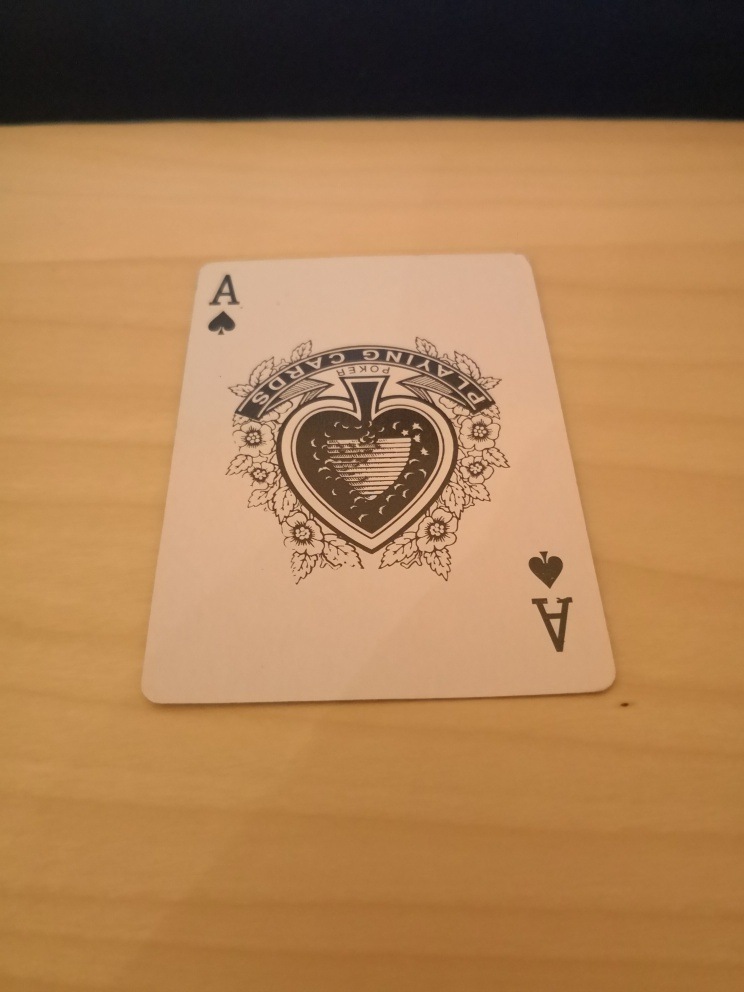ace: (140, 253, 619, 706)
